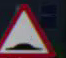Speed Breaker ahead: (3, 3, 55, 57)
